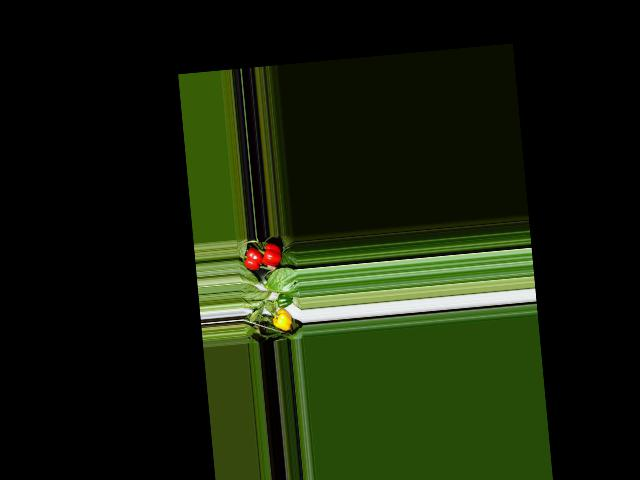bell_pepper: (271, 307, 294, 334)
